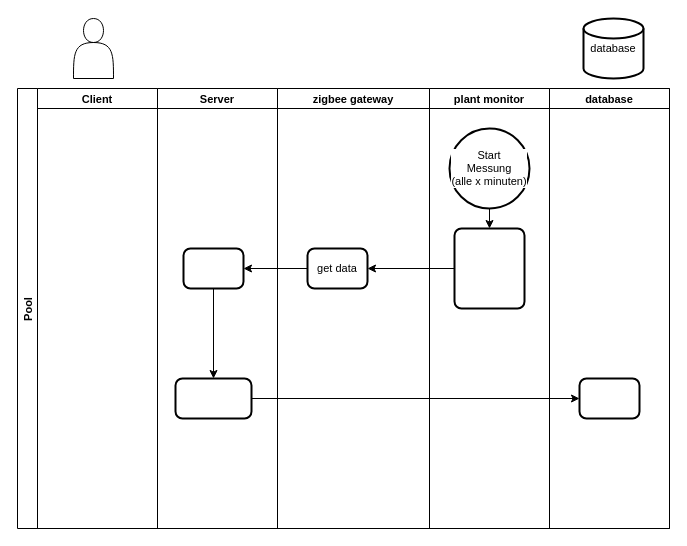
This 687x546 diagram has some shape labels left out. Each missing label, with the centre of its shape:
Kunde: point 93,48
request data: point 213,268
store data: point 609,398
wake up get sensor data: point 489,268
write data to DB: point 213,398
